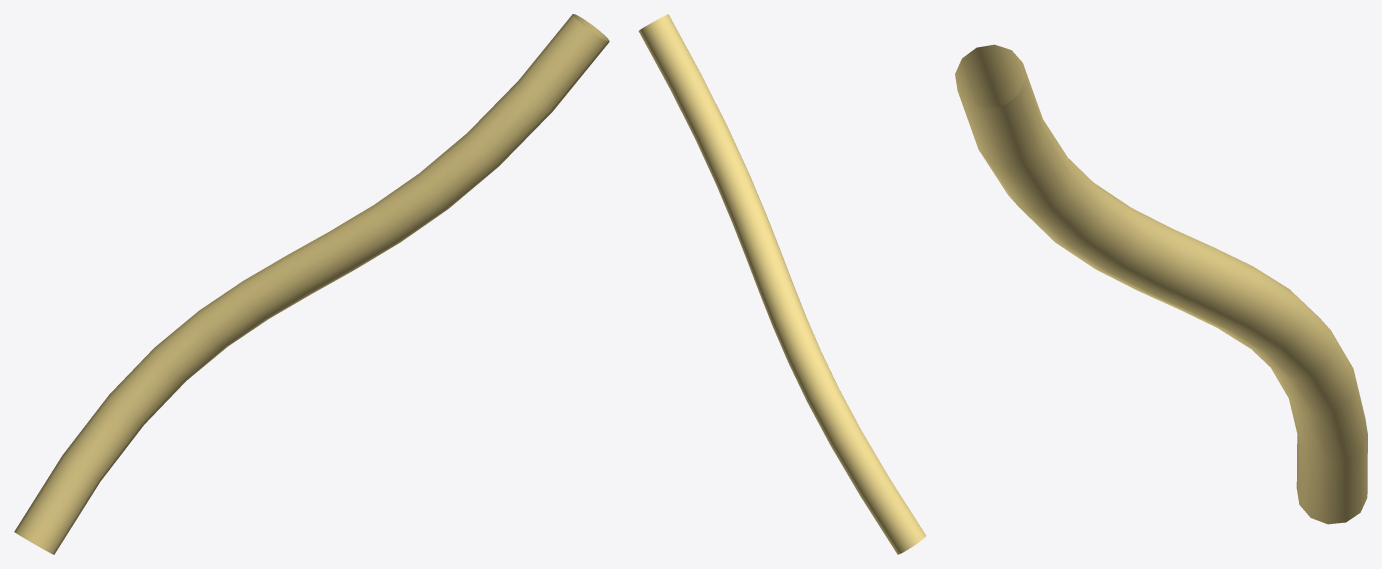
3 renders of one model, left to right at view 1: azimuth 30°, elevation 25°; view 2: azimuth 150°, elevation 25°; view 3: azimuth 270°, elevation 25°, orthographic. The views are drawn at different scales.
Parts seen in each view (by area): view 1: ZA_036a7e079a39ce3e; view 2: ZA_036a7e079a39ce3e; view 3: ZA_036a7e079a39ce3e.
Boxes of the visible parts, x1,y1,x2,y2 form: ZA_036a7e079a39ce3e: (14, 14, 609, 554); ZA_036a7e079a39ce3e: (638, 14, 926, 554); ZA_036a7e079a39ce3e: (955, 44, 1367, 524).
Size of the model in its own units: 0.0358 by 0.0368 by 0.0174.
